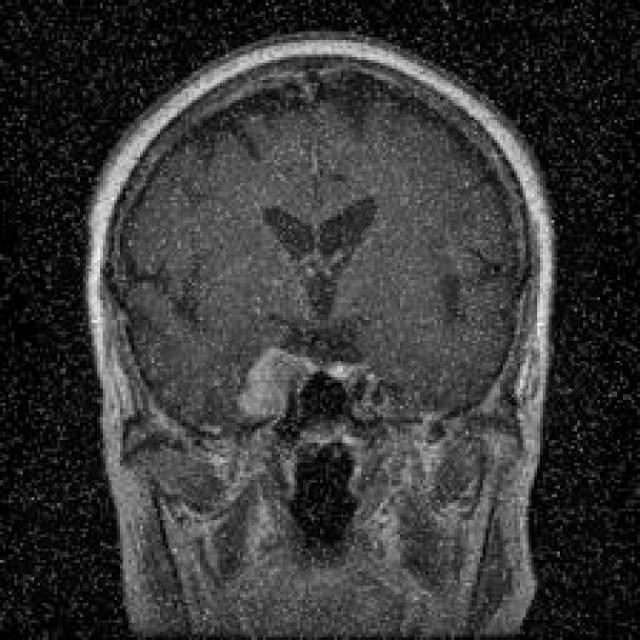meningioma_tumor: (221, 329, 326, 443)
